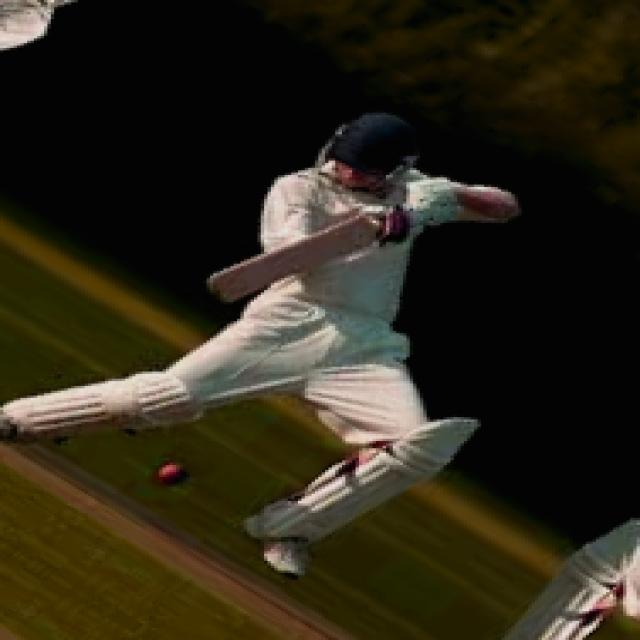toe: (188, 256, 278, 302)
